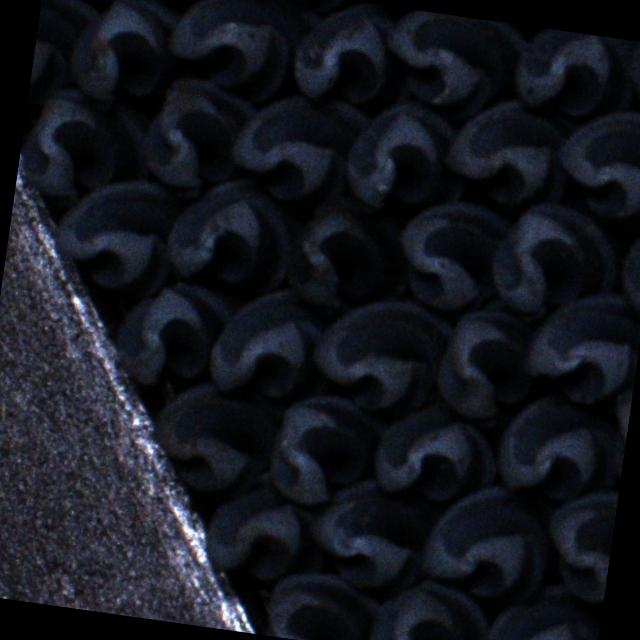tool_b: (308, 288, 456, 420), (14, 85, 160, 216), (484, 196, 623, 330), (227, 84, 376, 209), (378, 7, 532, 127), (48, 171, 185, 303), (417, 477, 556, 606), (202, 280, 342, 408), (162, 170, 302, 296), (162, 0, 323, 108), (283, 192, 416, 321), (302, 473, 438, 599), (439, 90, 578, 212), (133, 72, 262, 202), (200, 480, 335, 604), (149, 377, 282, 502), (340, 94, 474, 218), (430, 293, 552, 427), (109, 274, 239, 398), (493, 389, 626, 508), (521, 282, 640, 410), (266, 388, 388, 512), (372, 397, 504, 508), (390, 195, 508, 317), (288, 0, 413, 109), (510, 25, 640, 125), (67, 0, 181, 105), (551, 101, 640, 233), (538, 486, 618, 604), (265, 567, 381, 640), (27, 0, 103, 110), (369, 575, 494, 640), (479, 577, 604, 640)
